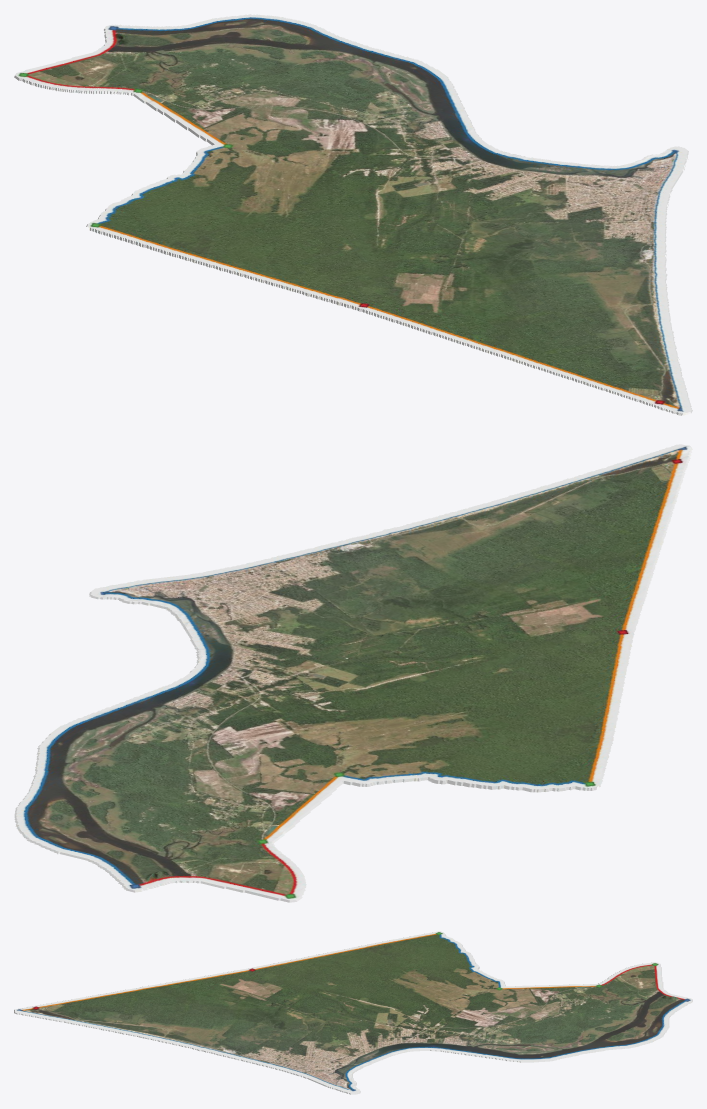
3 renders of one model, top to bottom at view 1: azimuth 30°, elevation 25°; view 2: azimuth 150°, elevation 25°; view 3: azimuth 270°, elevation 25°, orthographic. The views are drawn at different scales.
Size of the model in its own units: 0.9996 by 0.00888 by 1.77.
Materials: 1 (1 with a texture image).
